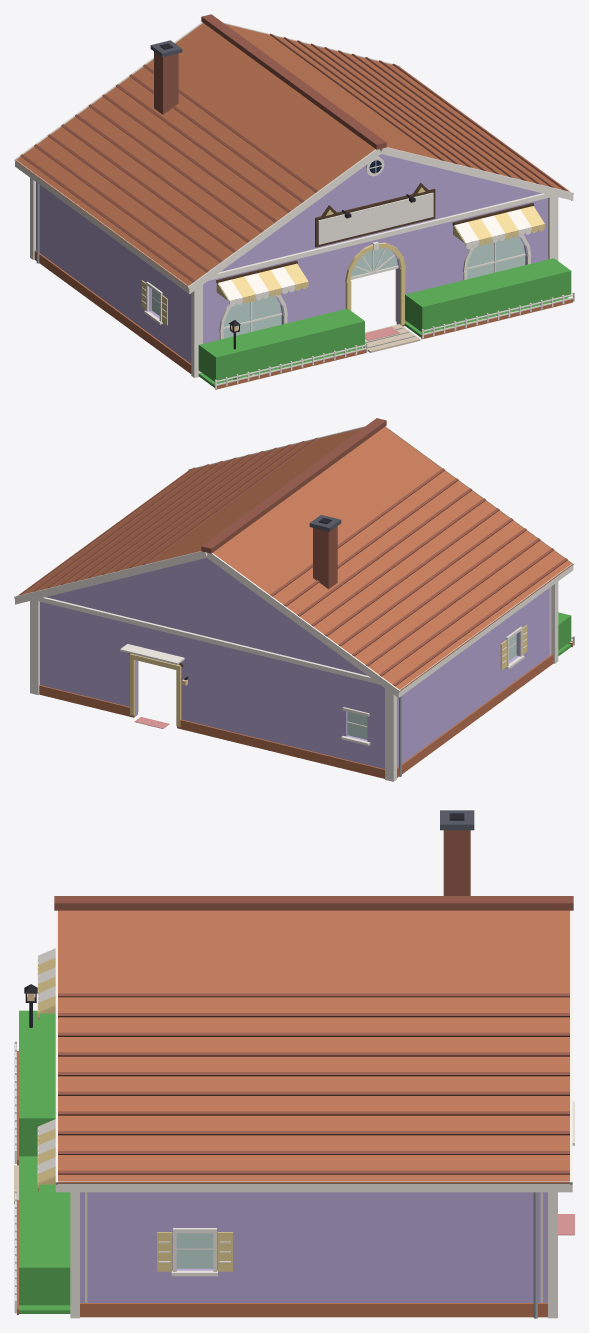
File: CatCafe_Plot_Cafe_Lilac_48x37.glb
3 views of the same model, one above another, from view 1: azimuth 30°, elevation 25°; view 2: azimuth 150°, elevation 25°; view 3: azimuth 270°, elevation 25° (orthographic). The views are drawn at different scales.
Parts seen in each view (by area): view 1: CatCafe_Plot_Cafe_Lilac_48x37_Roof, CatCafe_Plot_Cafe_Lilac_48x37_Paint, CatCafe_Plot_Cafe_Lilac_48x37_Fireflies, CatCafe_Plot_Cafe_Lilac_48x37_Trim, CatCafe_Plot_Cafe_Lilac_48x37_Roof_Trim, CatCafe_Plot_Cafe_Lilac_48x37_Awning, CatCafe_Plot_Cafe_Lilac_48x37_Glass, CatCafe_Plot_Cafe_Lilac_48x37, CatCafe_Plot_Cafe_Lilac_48x37_Garden, CatCafe_Plot_Cafe_Lilac_48x37_SignBoard, CatCafe_Plot_Cafe_Lilac_48x37_Path, CatCafe_Plot_Cafe_Lilac_48x37_Flowers; view 2: CatCafe_Plot_Cafe_Lilac_48x37_Roof, CatCafe_Plot_Cafe_Lilac_48x37_Paint, CatCafe_Plot_Cafe_Lilac_48x37_Trim, CatCafe_Plot_Cafe_Lilac_48x37_Roof_Trim, CatCafe_Plot_Cafe_Lilac_48x37, CatCafe_Plot_Cafe_Lilac_48x37_Glass; view 3: CatCafe_Plot_Cafe_Lilac_48x37_Roof, CatCafe_Plot_Cafe_Lilac_48x37_Paint, CatCafe_Plot_Cafe_Lilac_48x37_Fireflies, CatCafe_Plot_Cafe_Lilac_48x37, CatCafe_Plot_Cafe_Lilac_48x37_Roof_Trim, CatCafe_Plot_Cafe_Lilac_48x37_Trim, CatCafe_Plot_Cafe_Lilac_48x37_Awning, CatCafe_Plot_Cafe_Lilac_48x37_Garden, CatCafe_Plot_Cafe_Lilac_48x37_Glass, CatCafe_Plot_Cafe_Lilac_48x37_Wallpaper.
Part boxes in pixels (<box>): CatCafe_Plot_Cafe_Lilac_48x37_Roof: <box>15,14,569,286</box>; CatCafe_Plot_Cafe_Lilac_48x37_Paint: <box>36,154,547,363</box>; CatCafe_Plot_Cafe_Lilac_48x37_Fireflies: <box>198,258,571,382</box>; CatCafe_Plot_Cafe_Lilac_48x37_Trim: <box>30,156,558,377</box>; CatCafe_Plot_Cafe_Lilac_48x37_Roof_Trim: <box>14,22,573,293</box>; CatCafe_Plot_Cafe_Lilac_48x37_Awning: <box>216,206,544,306</box>; CatCafe_Plot_Cafe_Lilac_48x37_Glass: <box>152,236,525,338</box>; CatCafe_Plot_Cafe_Lilac_48x37: <box>34,160,525,373</box>; CatCafe_Plot_Cafe_Lilac_48x37_Garden: <box>214,292,574,389</box>; CatCafe_Plot_Cafe_Lilac_48x37_SignBoard: <box>318,192,433,244</box>; CatCafe_Plot_Cafe_Lilac_48x37_Path: <box>363,324,420,352</box>; CatCafe_Plot_Cafe_Lilac_48x37_Flowers: <box>198,297,568,387</box>; CatCafe_Plot_Cafe_Lilac_48x37_Roof: <box>18,418,572,690</box>; CatCafe_Plot_Cafe_Lilac_48x37_Paint: <box>40,558,551,768</box>; CatCafe_Plot_Cafe_Lilac_48x37_Trim: <box>30,581,558,781</box>; CatCafe_Plot_Cafe_Lilac_48x37_Roof_Trim: <box>14,426,573,697</box>; CatCafe_Plot_Cafe_Lilac_48x37: <box>39,625,553,778</box>; CatCafe_Plot_Cafe_Lilac_48x37_Glass: <box>347,634,516,739</box>; CatCafe_Plot_Cafe_Lilac_48x37_Roof: <box>54,810,573,1183</box>; CatCafe_Plot_Cafe_Lilac_48x37_Paint: <box>80,1192,547,1302</box>; CatCafe_Plot_Cafe_Lilac_48x37_Fireflies: <box>19,1010,70,1305</box>; CatCafe_Plot_Cafe_Lilac_48x37: <box>80,1192,574,1318</box>; CatCafe_Plot_Cafe_Lilac_48x37_Roof_Trim: <box>55,910,572,1192</box>; CatCafe_Plot_Cafe_Lilac_48x37_Trim: <box>70,1101,574,1318</box>; CatCafe_Plot_Cafe_Lilac_48x37_Awning: <box>37,948,55,1191</box>; CatCafe_Plot_Cafe_Lilac_48x37_Garden: <box>14,984,37,1314</box>; CatCafe_Plot_Cafe_Lilac_48x37_Glass: <box>176,1233,213,1268</box>; CatCafe_Plot_Cafe_Lilac_48x37_Wallpaper: <box>85,1192,542,1302</box>.
Size of the model in its own units: 53.86 by 28.2 by 45.8.
Materials: 1 (1 with a texture image).
